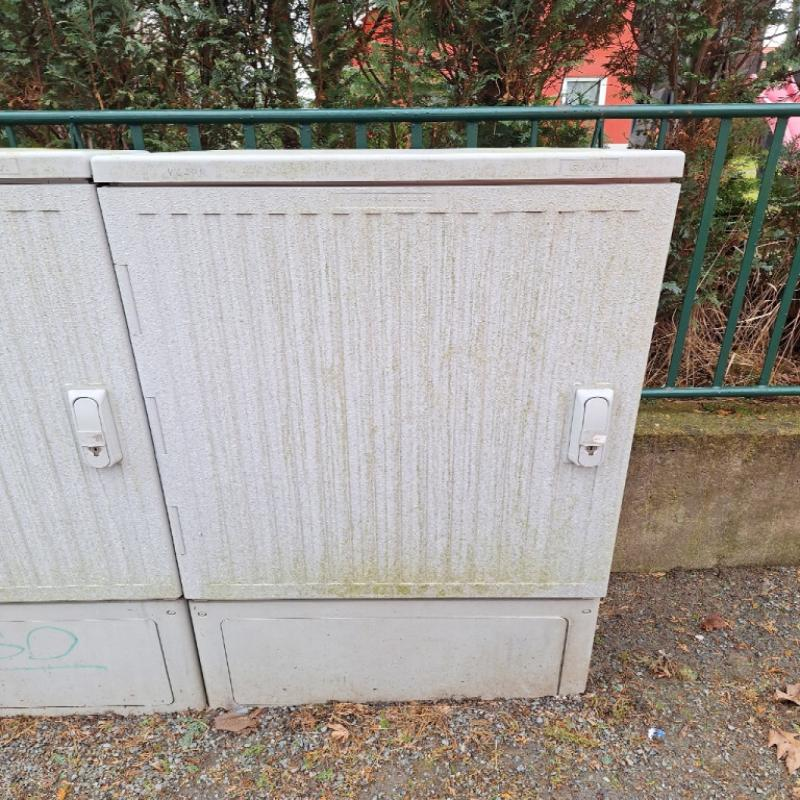NT-Gehause: (0, 148, 680, 711)
